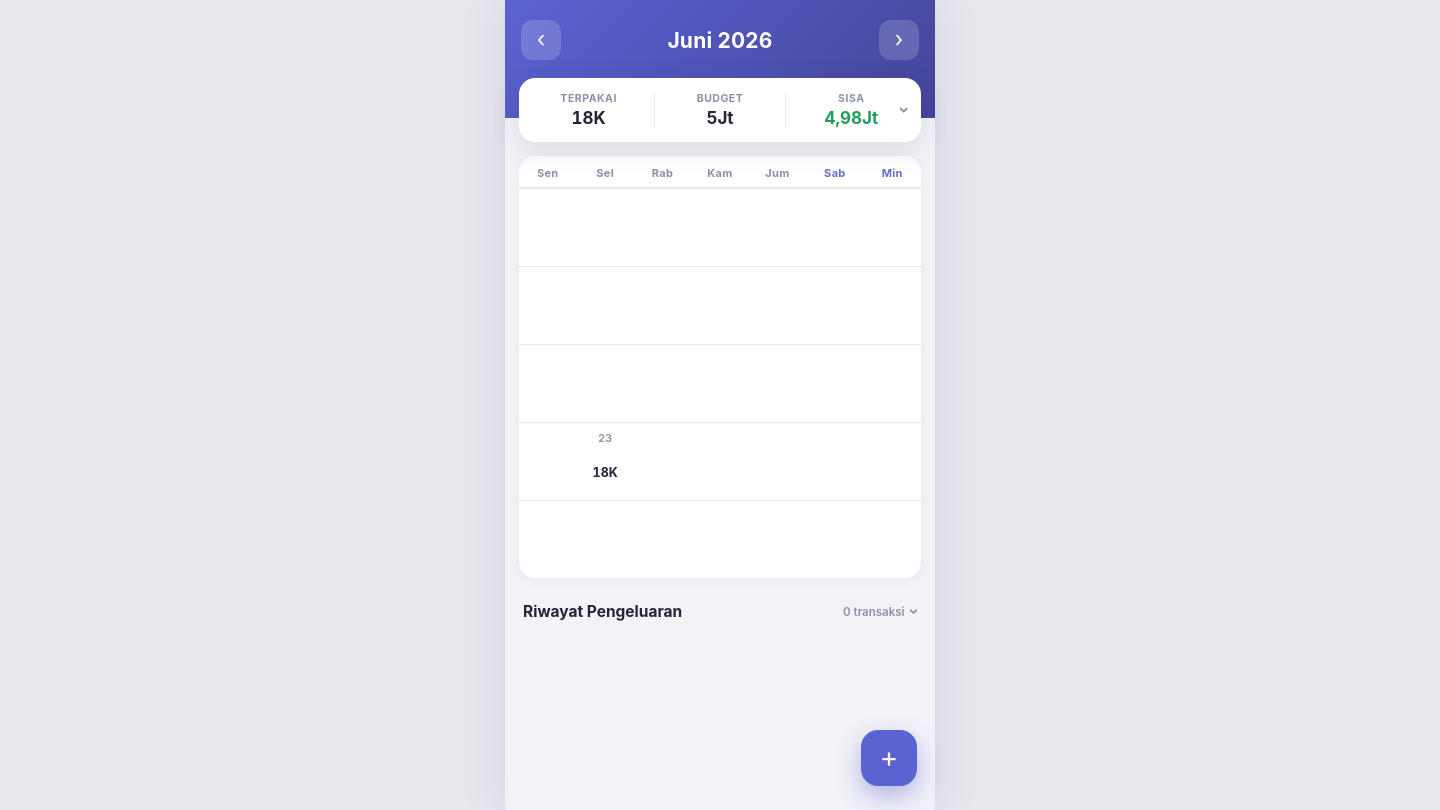
Scenario: App — renders the server dashboard › blocks a Langganan payment when no subscription is chosen
Expected: the text "Terpakai" is shown, [560,92,617,105]
Click the button named "Tambah pengeluaran hari ini" at (889, 758), box [861,730,917,786]
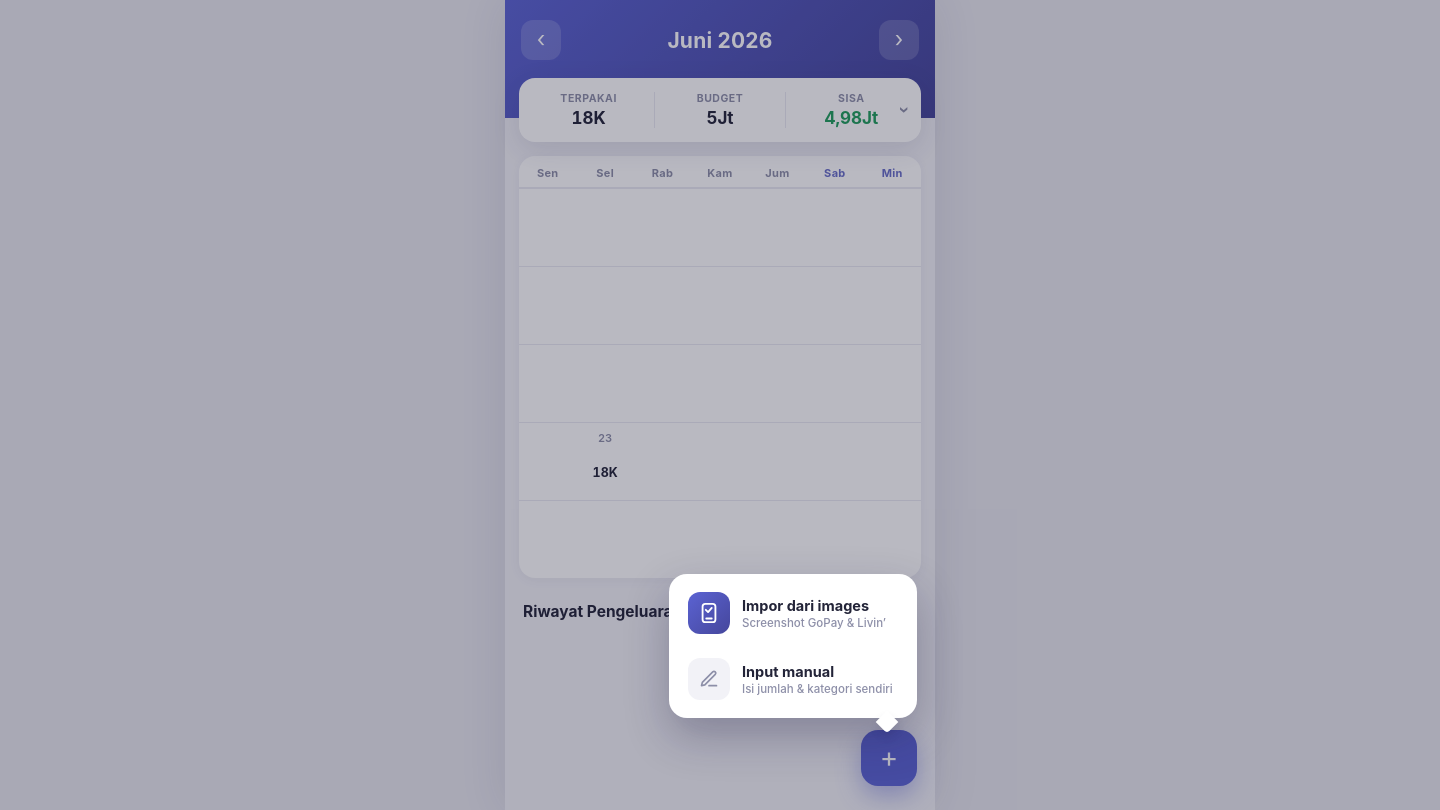
Click the text "Input manual" at (788, 671), box [742,662,834,680]
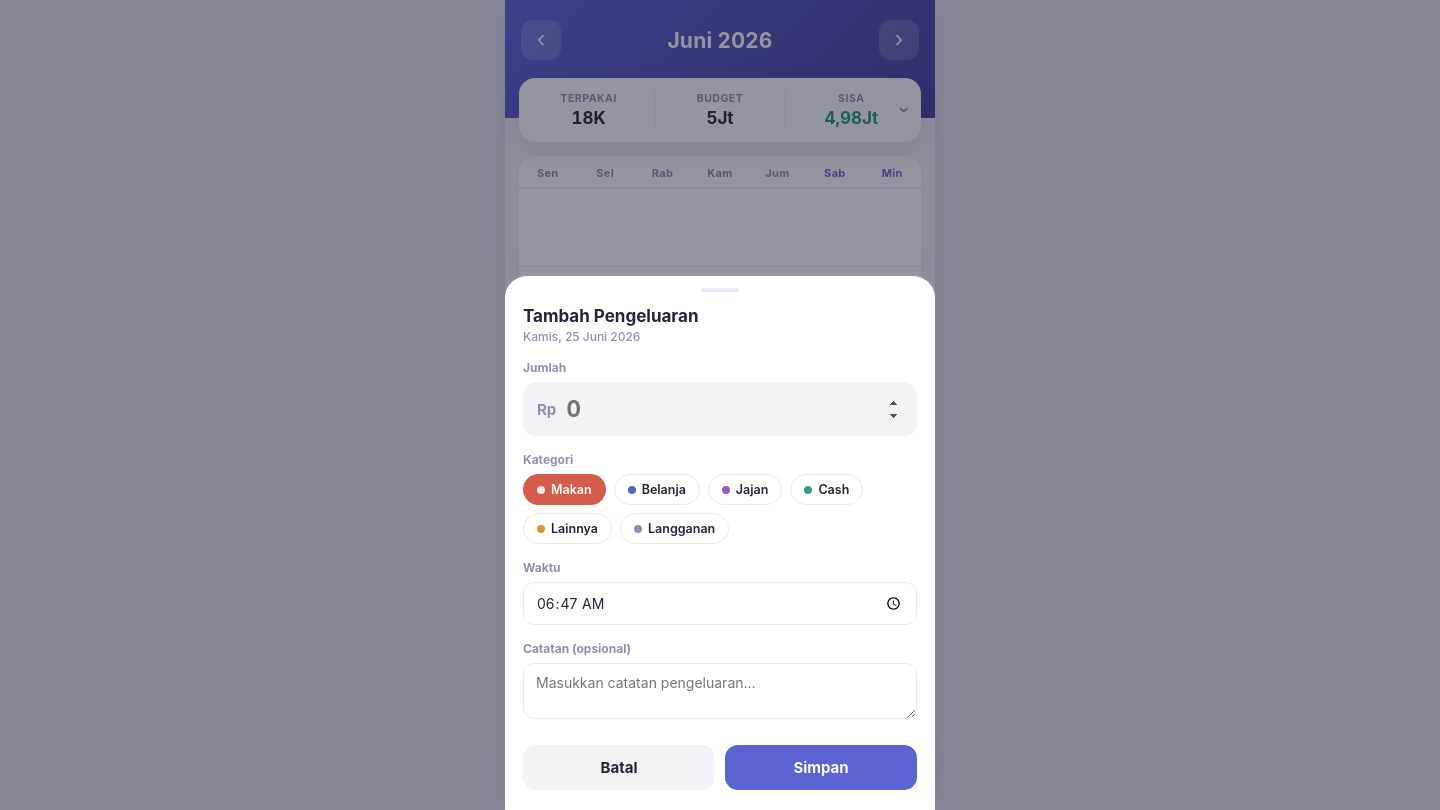
Click the button "Langganan" at (675, 529), box [620,513,729,544]
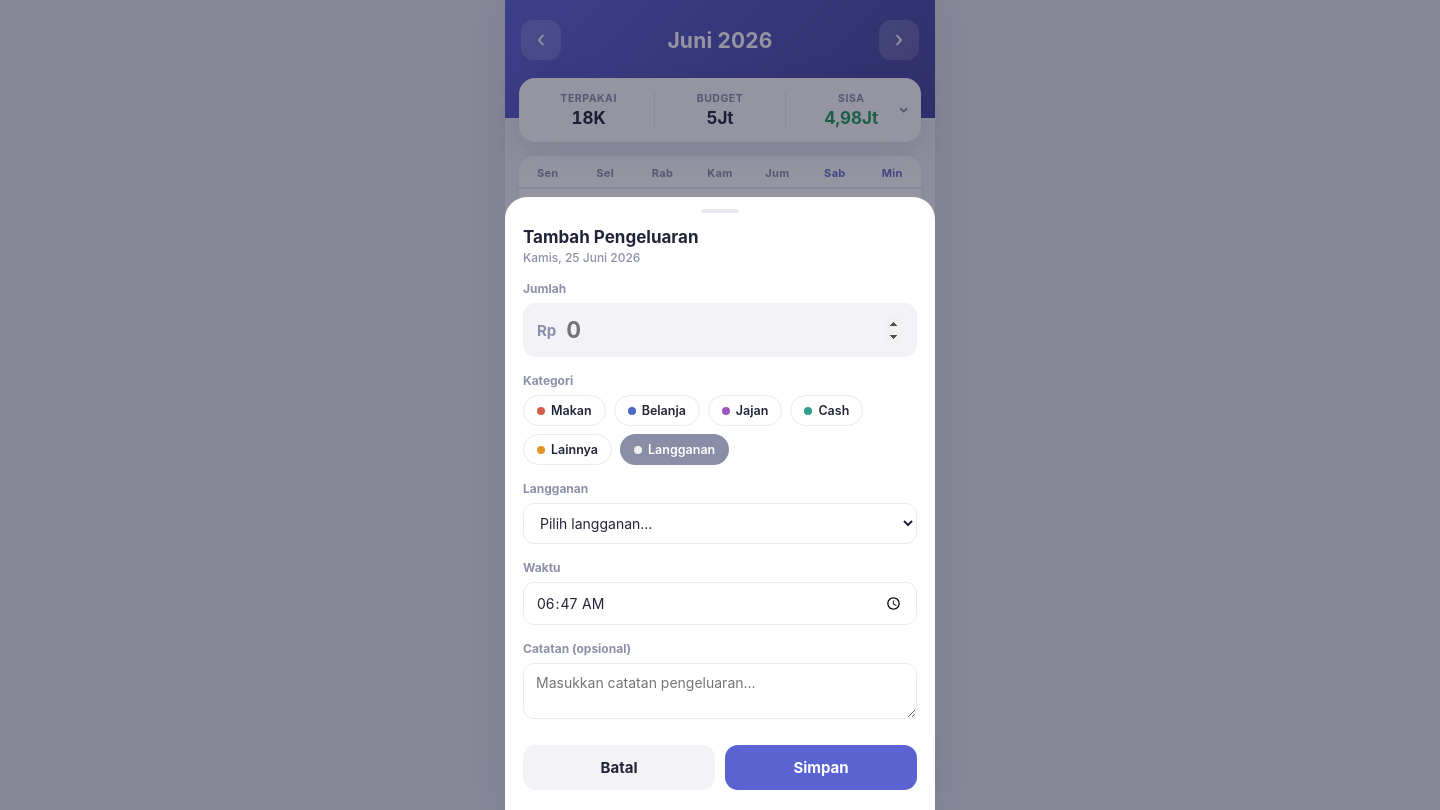
Type "186000" into the number field with placeholder "0" at (734, 330), box [564,315,903,345]
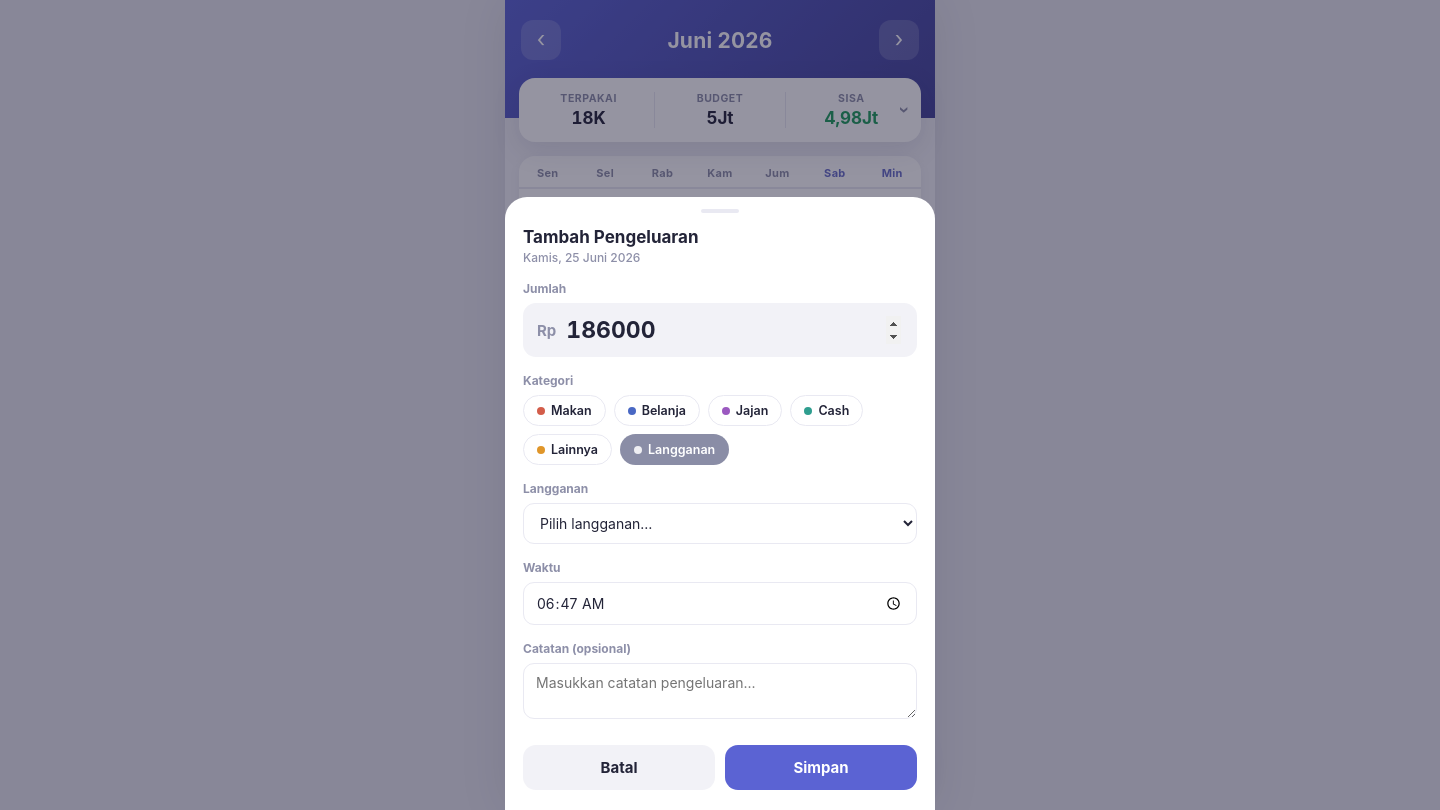
intentionally leave the subscription picker on "Pilih langganan…"
Click the button "Simpan" at (821, 768), box [725,745,917,790]
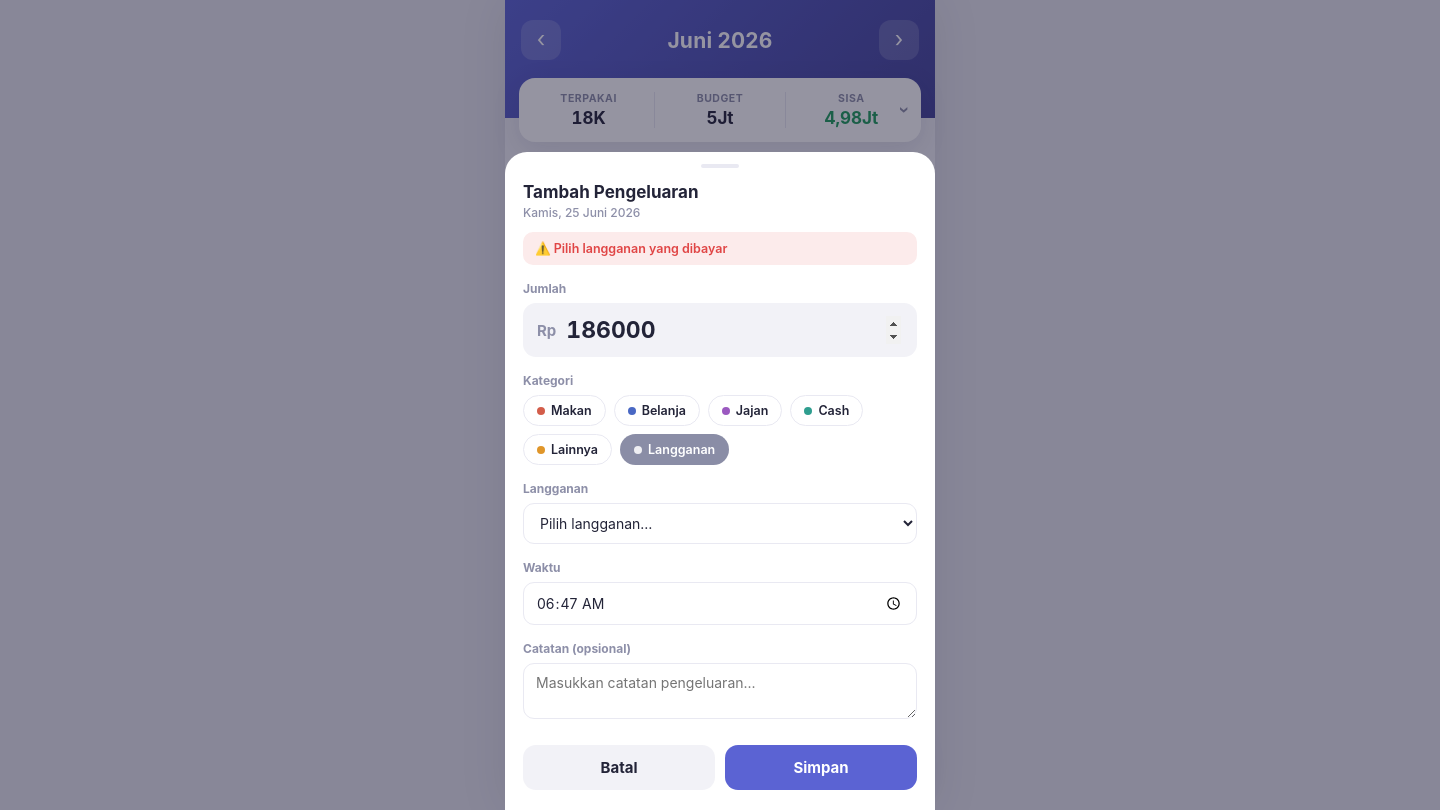
Now the text "⚠️ Pilih langganan yang dibayar" is shown, box [523,232,917,265]
